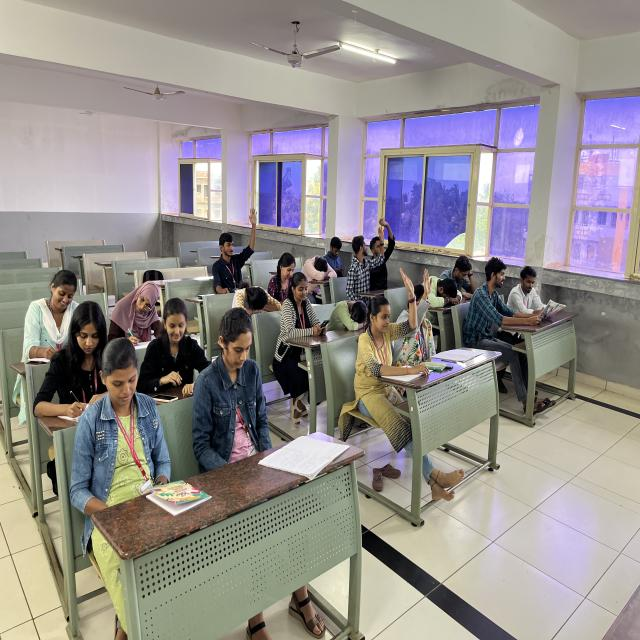Hand Rising: (354, 265, 416, 363), (204, 207, 260, 277), (346, 212, 396, 284), (399, 261, 436, 353), (370, 209, 400, 285)
Reading: (470, 239, 567, 348), (512, 243, 567, 329)
Sleeping: (228, 270, 282, 317), (324, 284, 371, 334), (427, 261, 459, 314), (300, 244, 340, 286)
Using Phone: (75, 342, 176, 480), (196, 306, 279, 454), (278, 269, 332, 374), (444, 239, 482, 299), (324, 232, 350, 278)
Writing: (44, 303, 118, 428), (12, 253, 87, 364), (102, 265, 175, 351)
